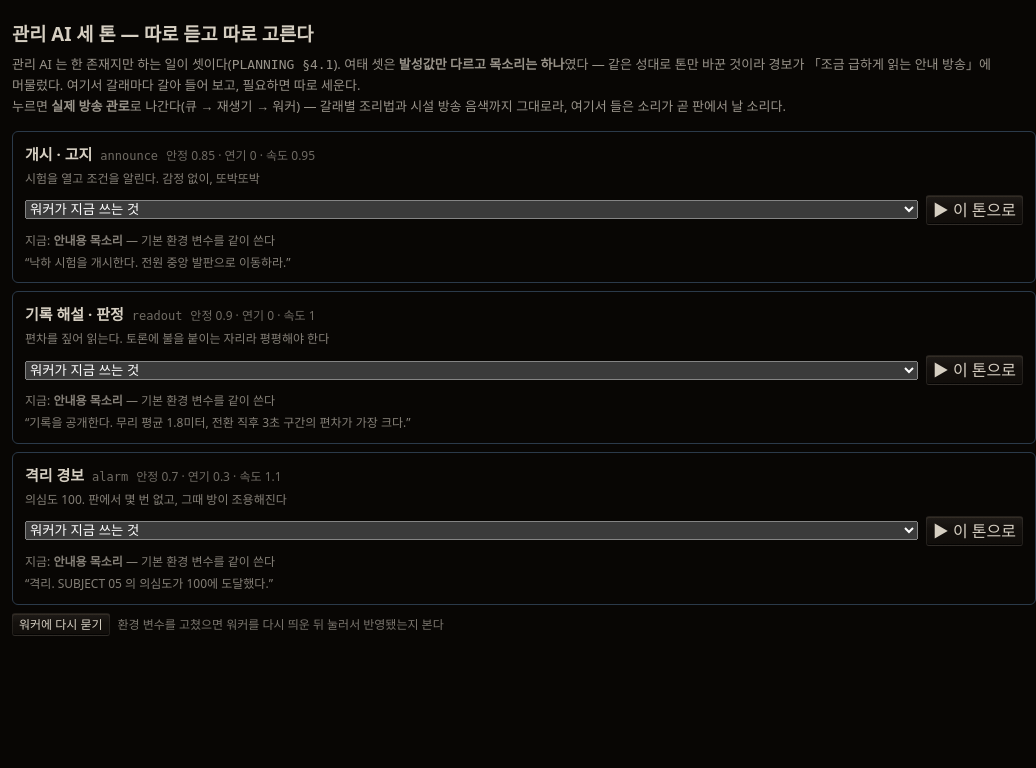
관리 AI 세 톤 › 고른 갈래만 환경 변수 줄로 나온다
Expected: the text "격리 경보" is shown, [25, 463, 84, 488]
Select "경보용 목소리" in the dropdown below "의심도 100. 판에서 몇 번 없고, 그때 방이 조용해진다" at (471, 531), box [25, 521, 918, 540]
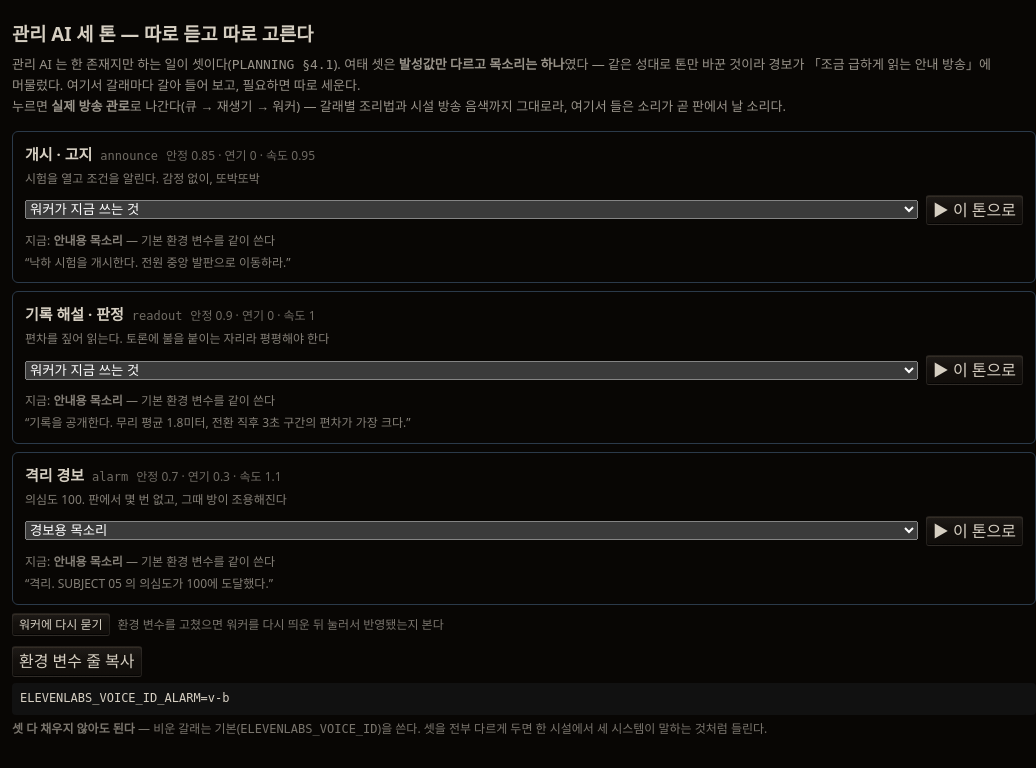
Expected: the text "ELEVENLABS_VOICE_ID_ALARM=v-b" is shown, [12, 683, 1035, 715]
